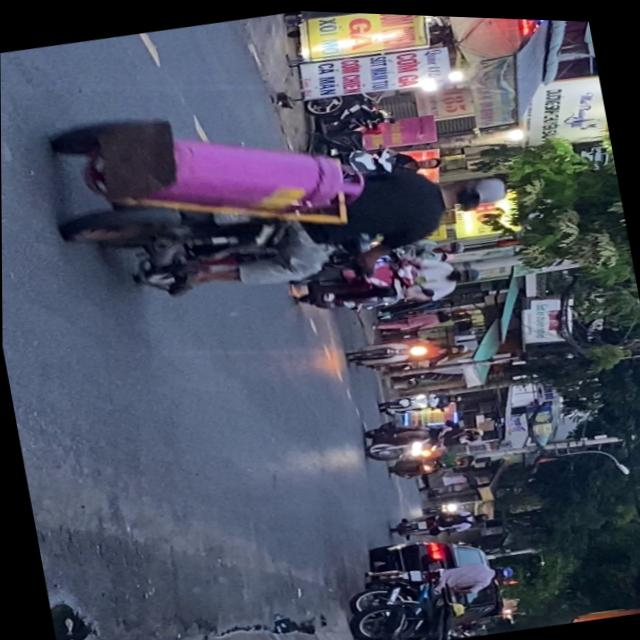helmet: (451, 258, 483, 280)
licenseplate: (87, 136, 523, 321), (287, 232, 486, 324)
motorcyclist: (442, 164, 511, 211)
